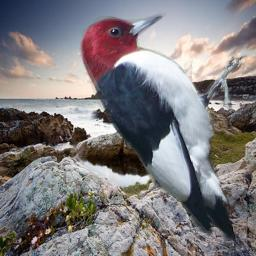Woodpecker: (79, 13, 253, 241)
